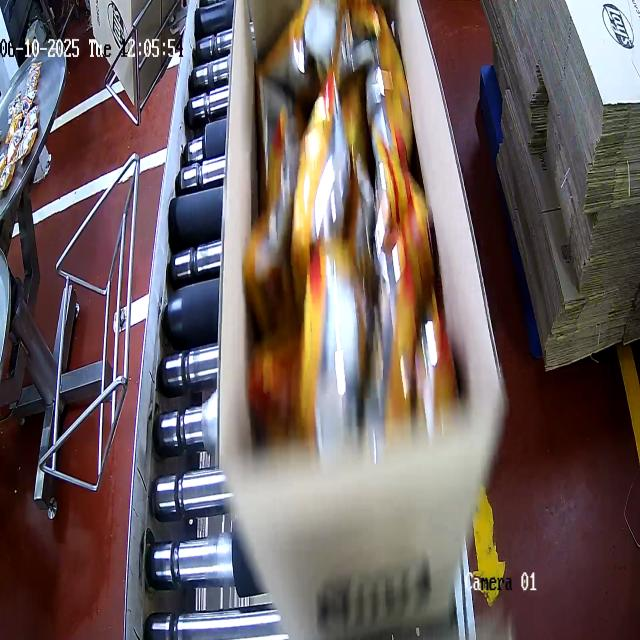FRENCH_CHEESE: (241, 0, 446, 448)
